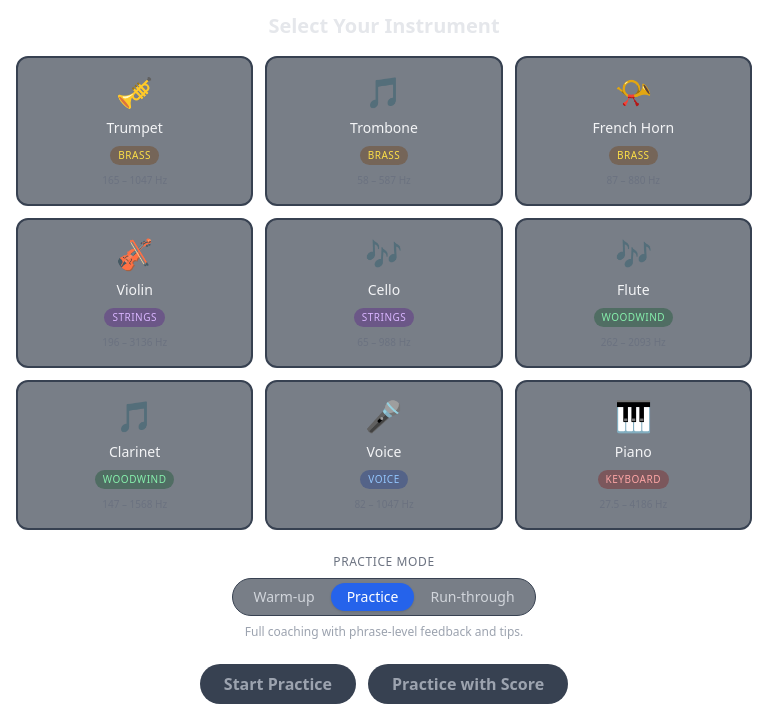
InstrumentSelector › Start Practice is disabled until an instrument is selected
Expected: the button with test id "start-practice-button" is disabled, [200,664,356,704]
Click the button with test id "instrument-card-trumpet": {"x": 135, "y": 131} [16,56,253,206]
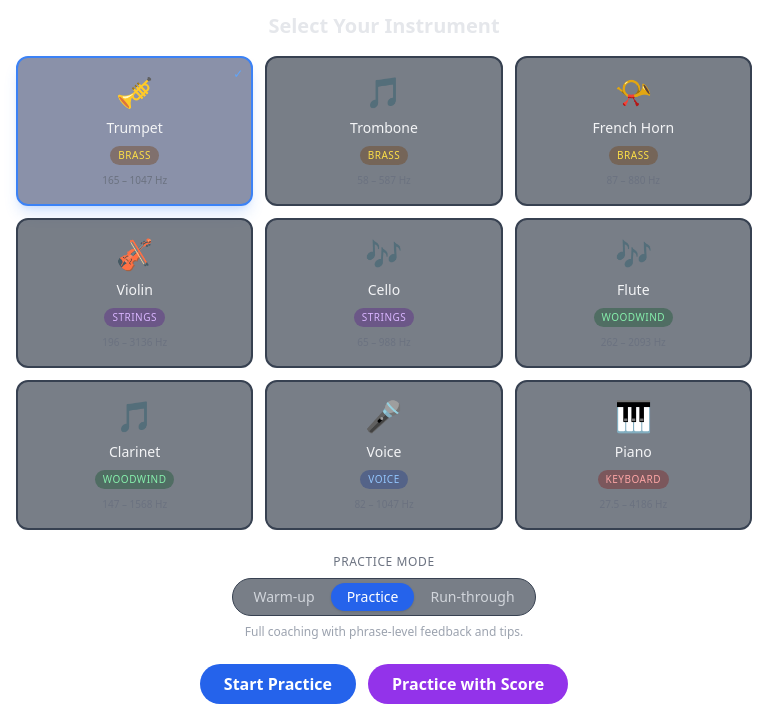
Result: the button with test id "start-practice-button" is enabled at [200,664,356,704]
